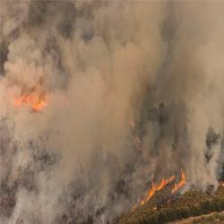fire: (142, 176, 184, 208), (17, 92, 49, 105)
smoke: (5, 14, 222, 196)
